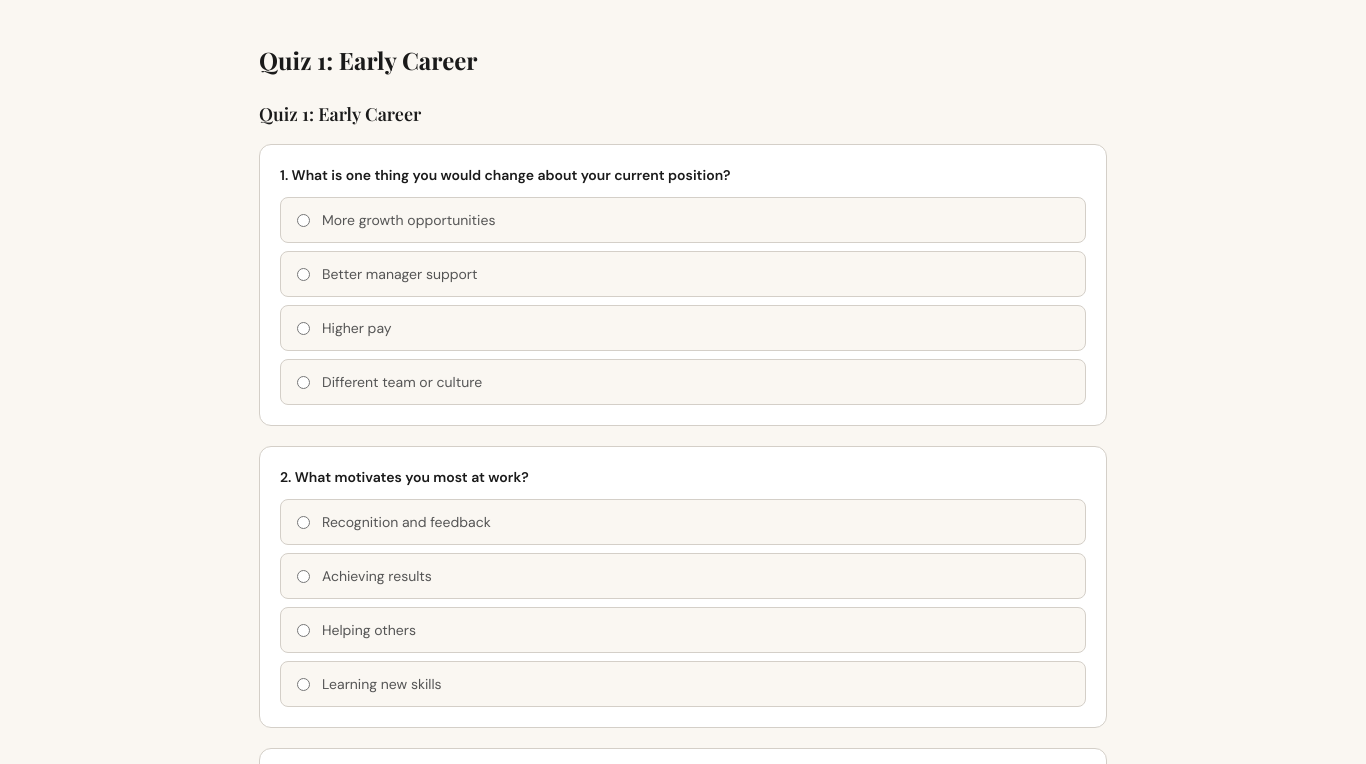
Test: CareerQuizzes - guest › a failed insight does not lock the guest out or store anything
Click the radio button labelled "More growth opportunities": coordinates (304, 220) [297,214,310,226]
(page scrolled)
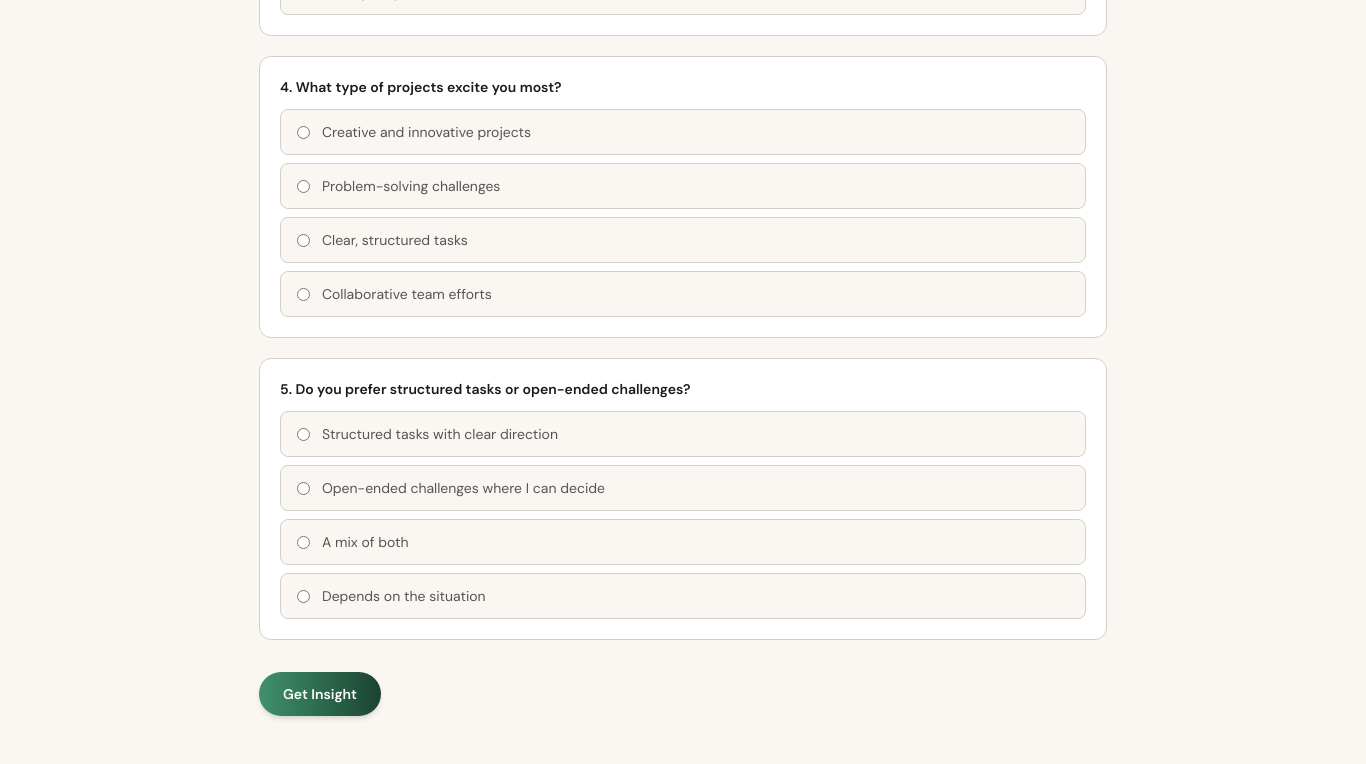
Click the button "Get Insight": coordinates (320, 694) [259,672,381,716]
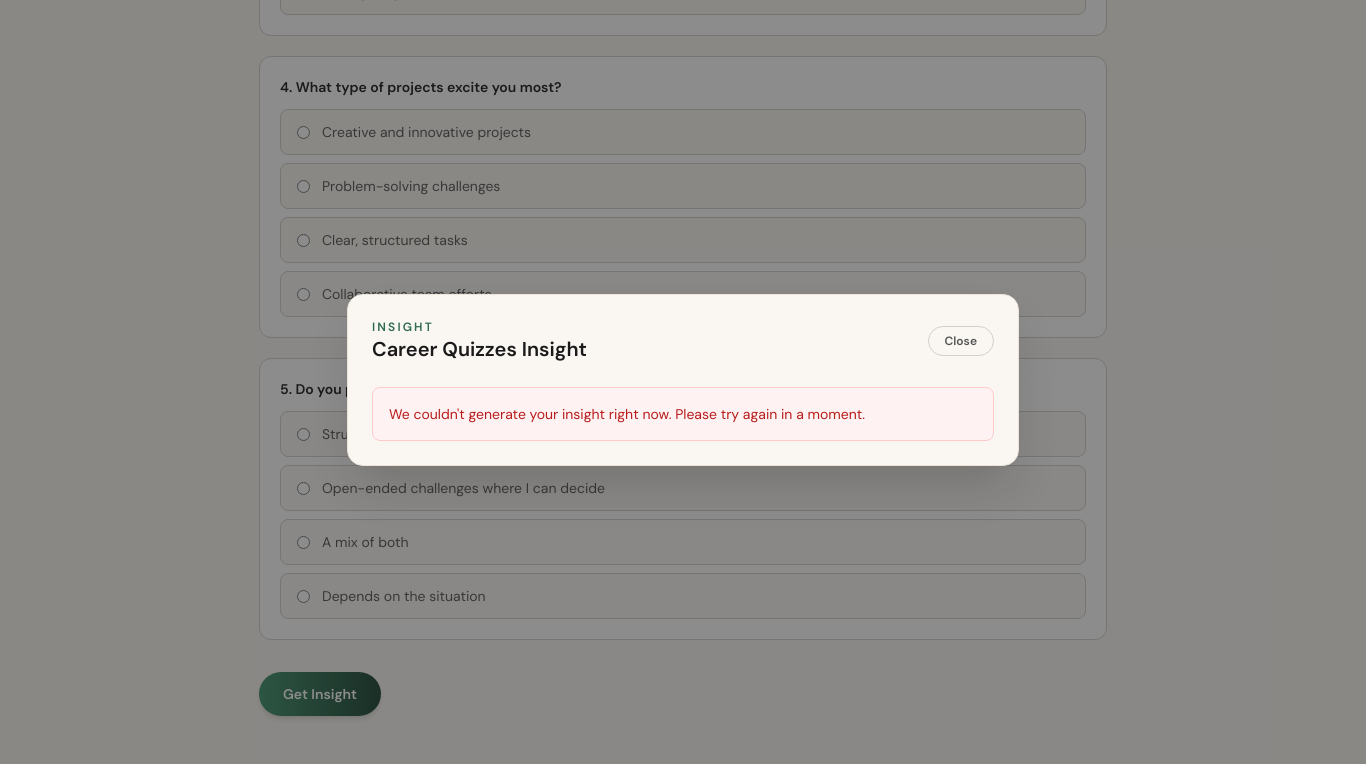
Check: the text "couldn't generate your insight" is shown, box [389,405,865,423]
